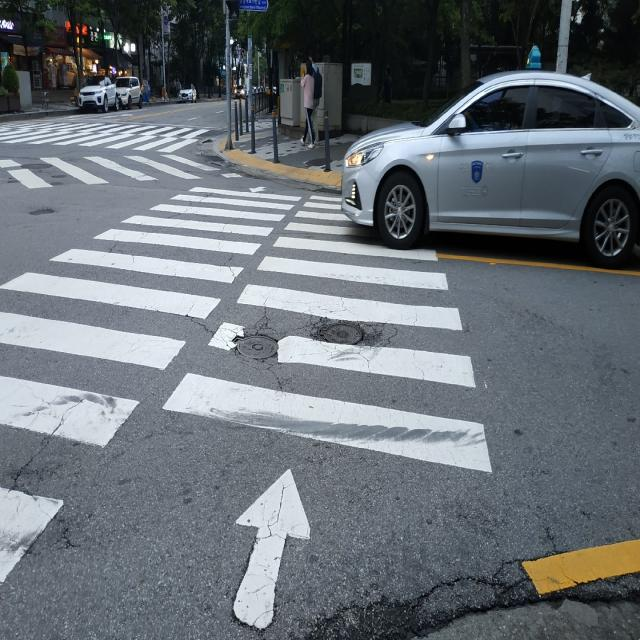횡단보도: (0, 184, 495, 634), (0, 126, 209, 185)
